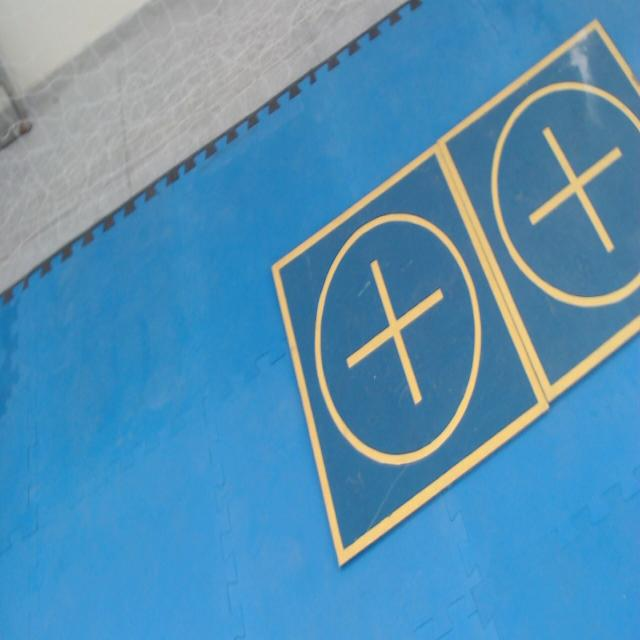base_pouso: (269, 142, 550, 571), (439, 18, 640, 409)
